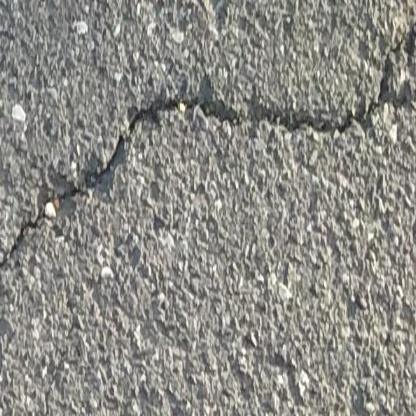Cracks: (0, 12, 416, 292)
